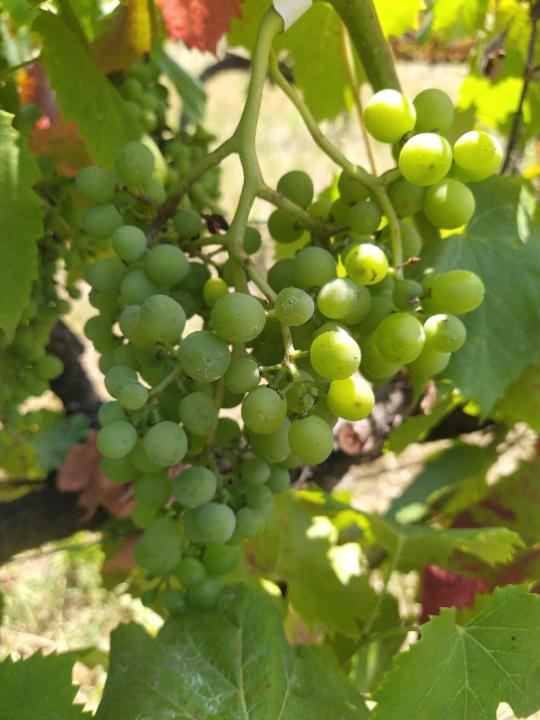grape: (75, 89, 506, 620)
